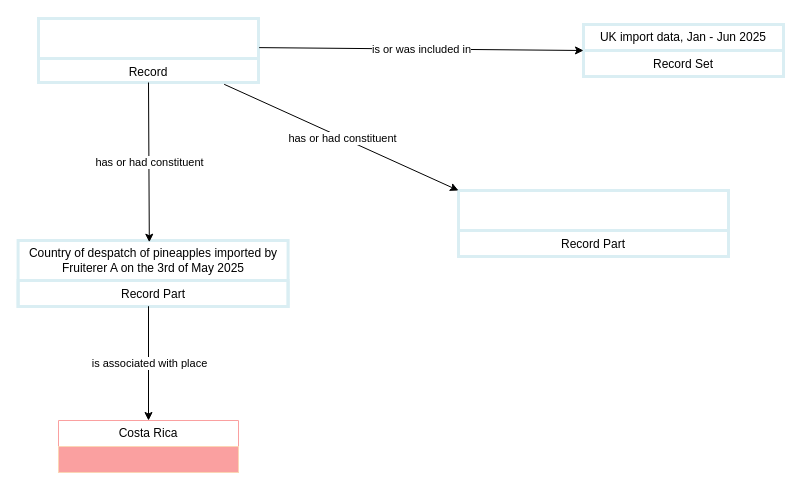
The diagram is 803 pixels wide and 493 high, and some of its shapes have lost their labels. The shapes that lost their labels are listed below. From the top down, each one's box as (x1, y1, x2, y2) in pixels, then its label:
(36, 16, 260, 84): Details of import of pineapples by Fruiterer A on the 3rd of May 2025
(456, 188, 730, 258): Mode of transport of pineapples imported by Fruiterer A on the 3rd of May 2025
(58, 446, 238, 472): Place
